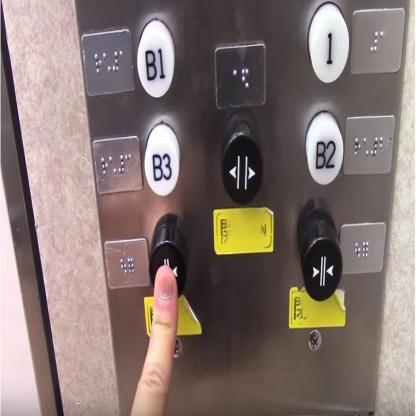1: (308, 2, 348, 82)
B1: (136, 17, 174, 96)
B2: (304, 110, 343, 185)
B3: (144, 122, 180, 196)
close: (300, 224, 342, 306)
open: (221, 121, 263, 204)
